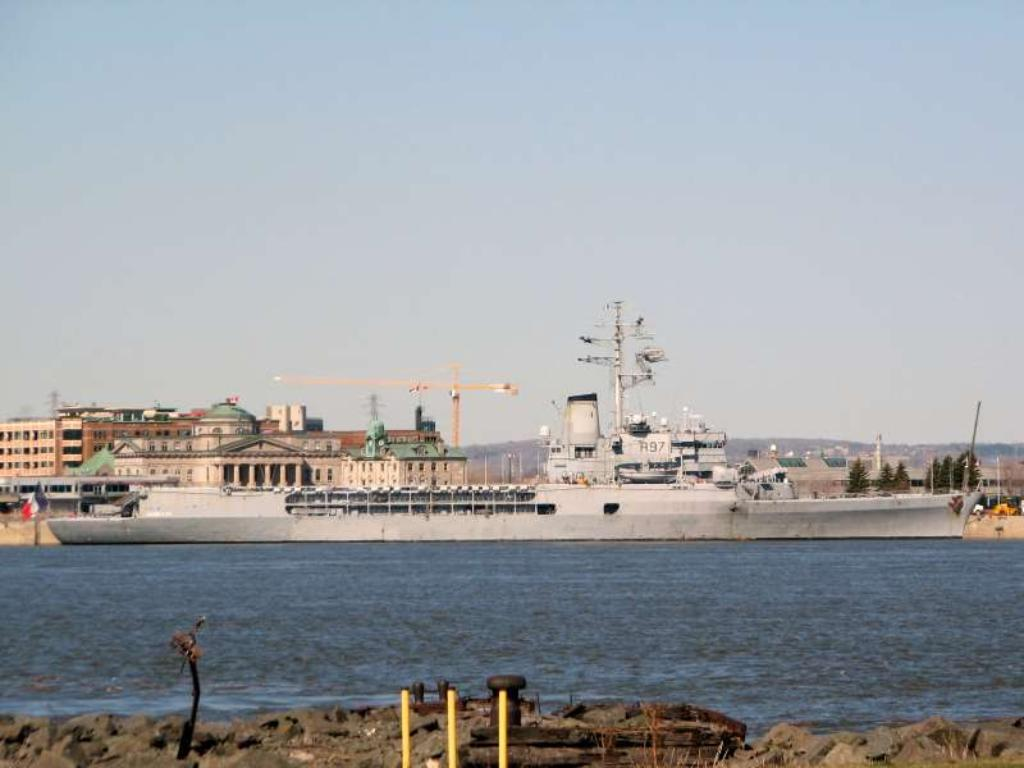Warship: (40, 296, 984, 550)
